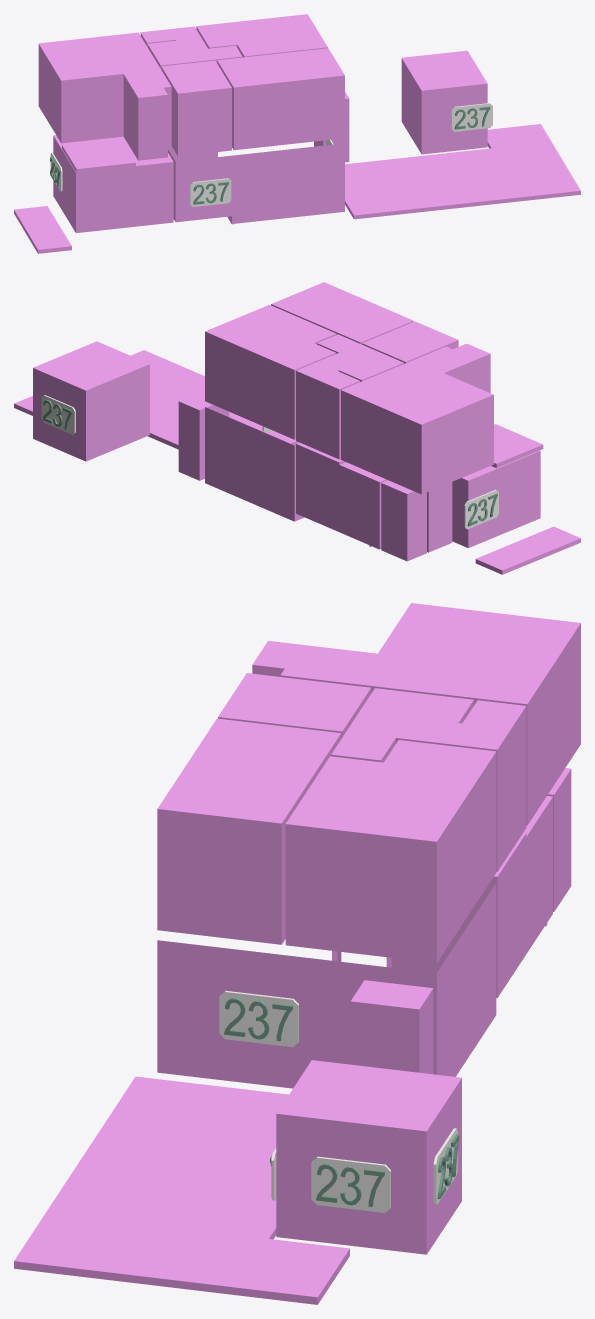
3 renders of one model, top to bottom at view 1: azimuth 30°, elevation 25°; view 2: azimuth 150°, elevation 25°; view 3: azimuth 270°, elevation 25°, orthographic. The views are drawn at different scales.
Visible parts, largest first — view 1: g_12, g_11, g_1, g_7, g_0, g_5, g_9, g_6, g_13, g_8, g_14, g_34 (+3 smaller); view 2: g_11, g_6, g_5, g_2, g_1, g_0, g_7, g_10, g_12, g_3, g_4, g_14 (+5 smaller); view 3: g_12, g_6, g_1, g_7, g_5, g_11, g_2, g_4, g_10, g_9, g_8, g_18 (+2 smaller).
Part boxes in pixels (box(x1,y1,x2,y2)): g_12: box(345, 124, 580, 219); g_11: box(38, 32, 171, 160); g_1: box(168, 143, 344, 224); g_7: box(217, 48, 344, 150); g_0: box(53, 135, 173, 233); g_5: box(401, 50, 487, 154); g_9: box(161, 60, 231, 156); g_6: box(196, 14, 327, 57); g_13: box(62, 138, 135, 172); g_8: box(147, 38, 242, 69); g_14: box(14, 206, 71, 253); g_34: box(190, 178, 231, 206); g_11: box(341, 343, 493, 494); g_6: box(205, 305, 336, 439); g_5: box(33, 341, 149, 461); g_2: box(296, 442, 452, 552); g_1: box(205, 407, 304, 521); g_0: box(452, 450, 540, 548); g_7: box(271, 282, 413, 344); g_10: box(296, 361, 360, 459); g_12: box(14, 350, 298, 449); g_3: box(381, 480, 426, 561); g_4: box(178, 390, 229, 480); g_14: box(475, 526, 580, 574); g_12: box(14, 1076, 349, 1304); g_6: box(285, 740, 496, 962); g_1: box(157, 883, 496, 1088); g_7: box(157, 718, 341, 944); g_5: box(276, 1060, 461, 1254); g_11: box(252, 603, 580, 825); g_2: box(391, 796, 552, 997); g_4: box(350, 980, 433, 1074); g_10: box(441, 700, 526, 871); g_9: box(218, 673, 371, 738); g_8: box(331, 688, 473, 762); g_18: box(219, 990, 298, 1047).
Bounding box in the file's own units: 20.15 × 5.35 × 10.11.
